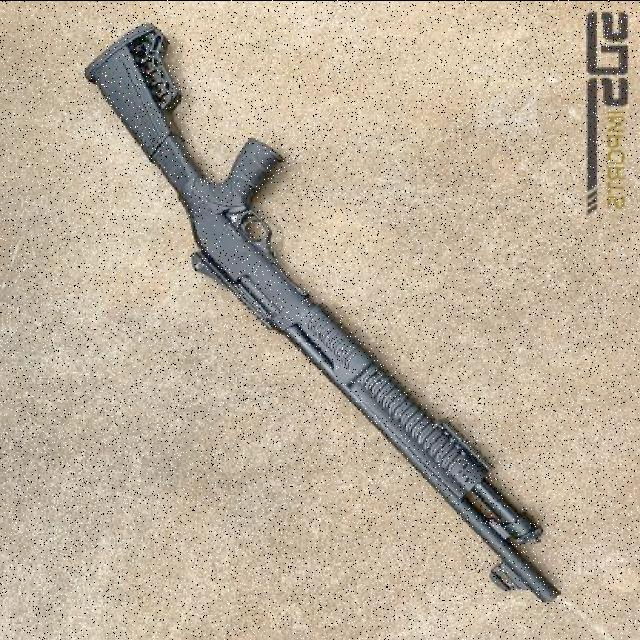Rifle: (82, 19, 561, 604)
